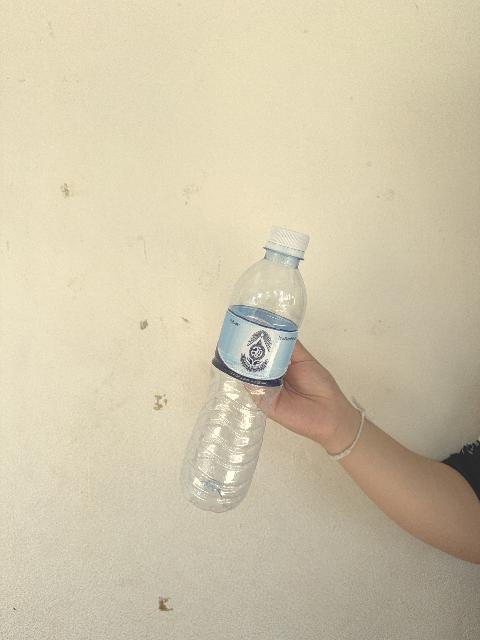bottle: (181, 227, 309, 512)
